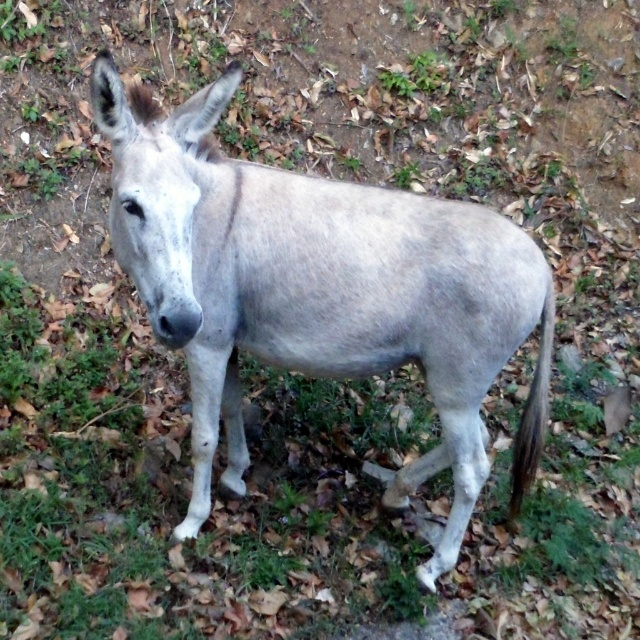Mule: (68, 35, 550, 578)
